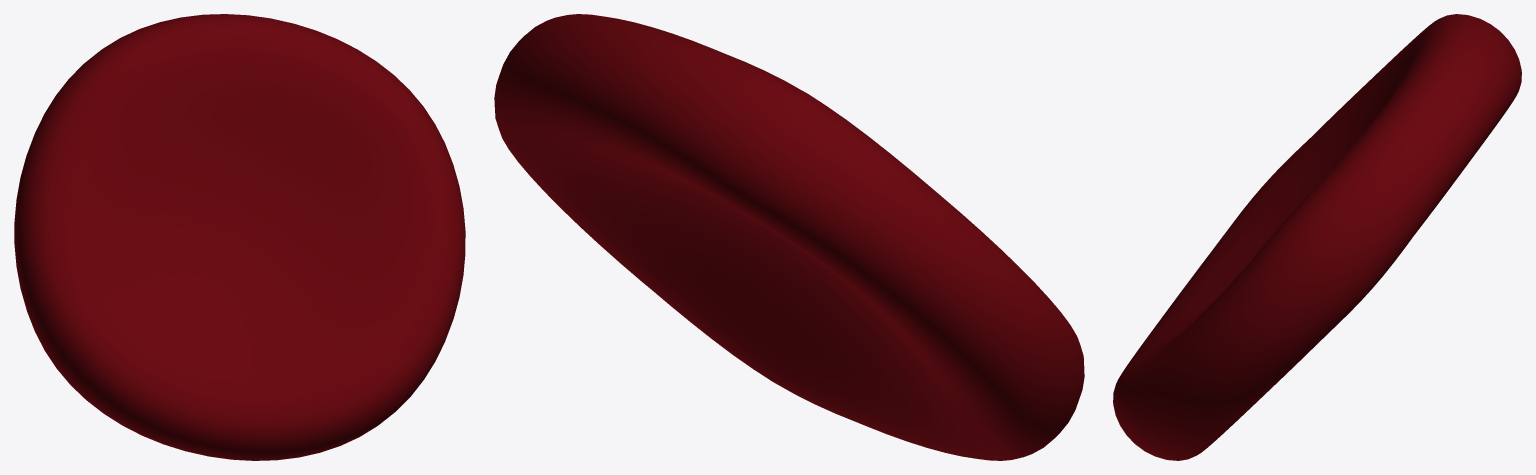
The model's file is Blood_cellsq.fbx.
The picture shows the model from 3 angles, left to right: view 1: azimuth 30°, elevation 25°; view 2: azimuth 150°, elevation 25°; view 3: azimuth 270°, elevation 25°; orthographic projection. The views are drawn at different scales.
Parts seen in each view (by area): view 1: Erythrocyte; view 2: Erythrocyte; view 3: Erythrocyte.
Boxes of the visible parts, x1,y1,x2,y2 form: Erythrocyte: (14, 14, 465, 460); Erythrocyte: (494, 14, 1084, 460); Erythrocyte: (1113, 14, 1521, 460).
Size of the model in its own units: 261 by 216 by 198.
